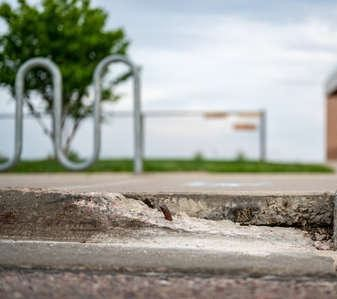Exposed reinforcement: (159, 204, 174, 222)
Spalling: (72, 193, 337, 250)
